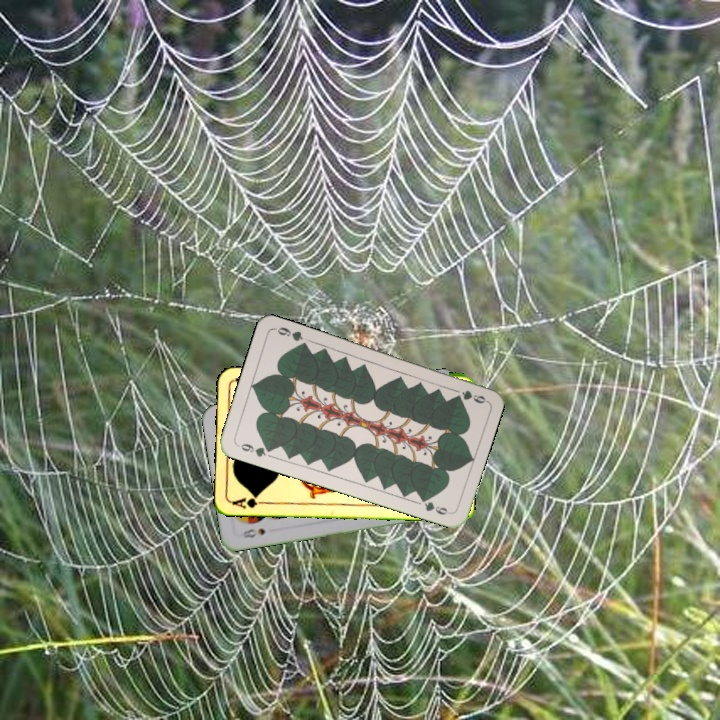G9: (233, 439, 275, 460), (458, 386, 489, 406)
GA: (229, 492, 269, 511)
S8: (238, 524, 268, 540)
